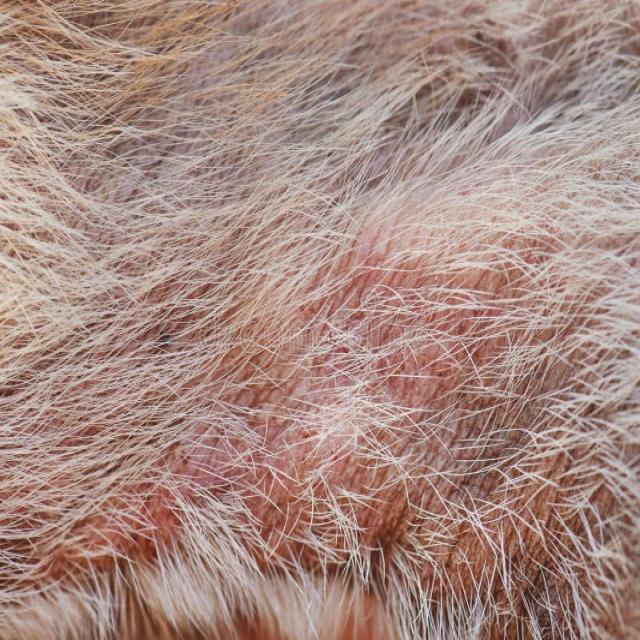fungal infection: (207, 243, 516, 566)
